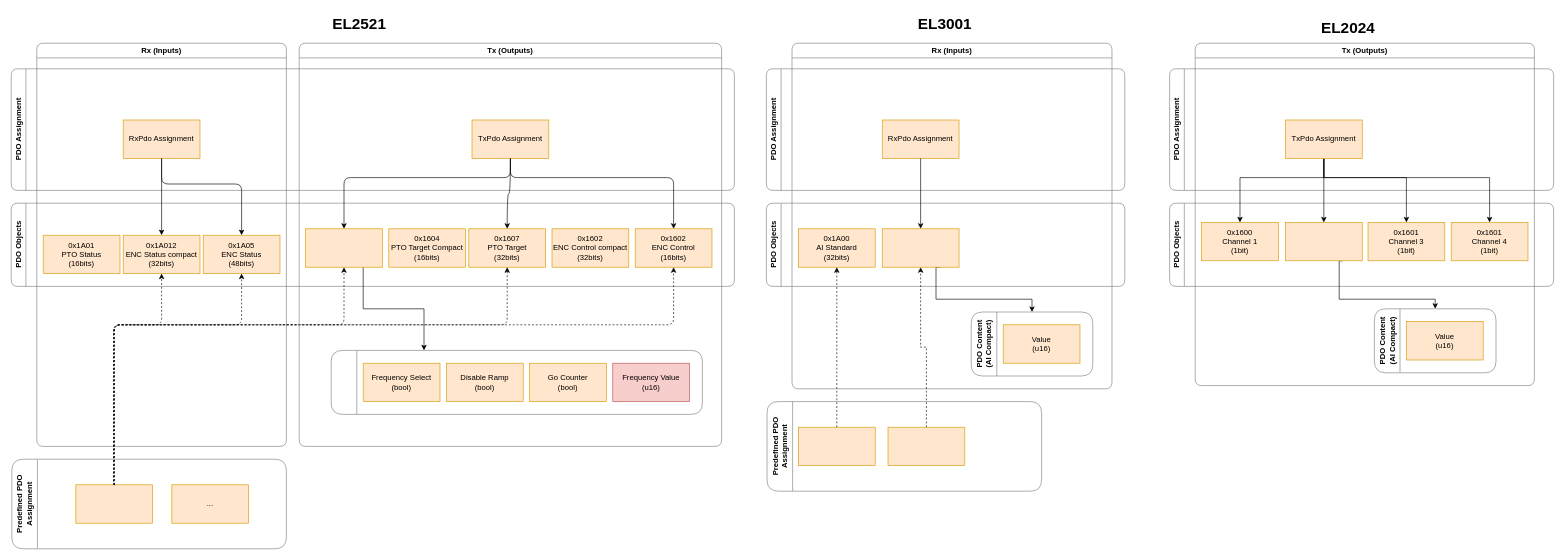
Image size: 1565x560. Some labels were removed from this diagram. The shapes that lost their labels are listed below. From the top down, each one's box as (x1, y1, x2, y2) in pixels, then its label:
(305, 228, 382, 267): 0x1601 PTO Control (32bits)
(882, 228, 959, 267): 0x1A01 AI Compact (32bits)
(1285, 222, 1362, 261): 0x1601 Channel 2 (1bit)
(331, 350, 702, 414): PDO Content (PTO Control)
(798, 427, 875, 466): Standard
(887, 427, 965, 466): Compact
(75, 484, 153, 523): Standard 32 Bit
